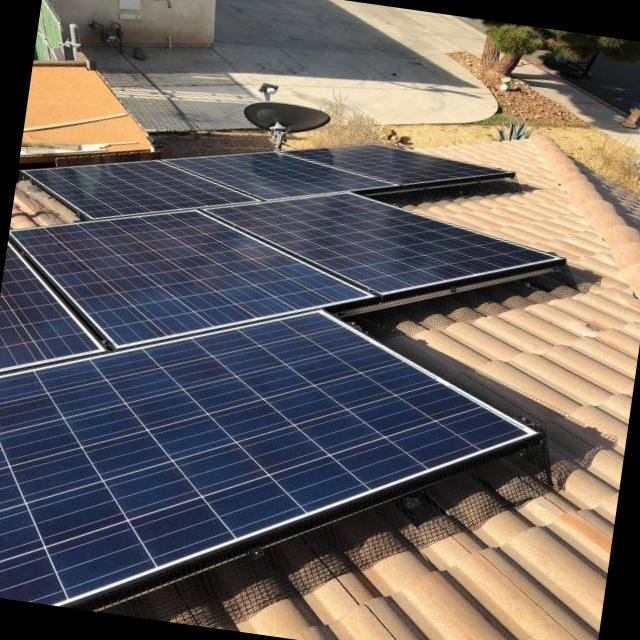no faulty: (0, 312, 535, 606), (14, 209, 357, 345), (207, 190, 545, 297), (22, 161, 243, 213), (173, 157, 383, 201), (296, 150, 509, 182)
